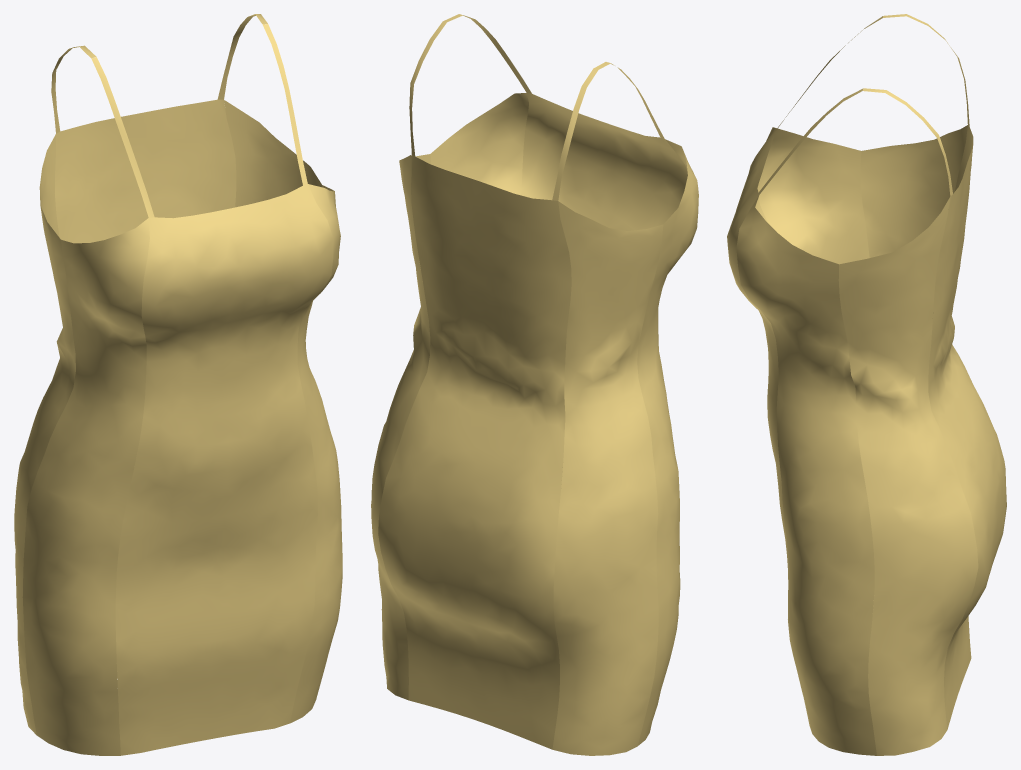
Rendered from small_beigeBodycon_noinside2.obj.
The picture shows the model from 3 angles, left to right: view 1: azimuth 30°, elevation 25°; view 2: azimuth 150°, elevation 25°; view 3: azimuth 270°, elevation 25°; orthographic projection. The views are drawn at different scales.
Parts seen in each view (by area): view 1: small_beigeBodycon_noinside:Mesh small_beigeBodycon_noinside:pol; view 2: small_beigeBodycon_noinside:Mesh small_beigeBodycon_noinside:pol; view 3: small_beigeBodycon_noinside:Mesh small_beigeBodycon_noinside:pol.
Boxes of the visible parts, x1,y1,x2,y2 form: small_beigeBodycon_noinside:Mesh small_beigeBodycon_noinside:pol: (14, 14, 342, 755); small_beigeBodycon_noinside:Mesh small_beigeBodycon_noinside:pol: (371, 14, 698, 755); small_beigeBodycon_noinside:Mesh small_beigeBodycon_noinside:pol: (727, 14, 1006, 755).
Bounding box in the file's own units: 3.25 × 7.32 × 2.87.
10 materials, 10 textured.
